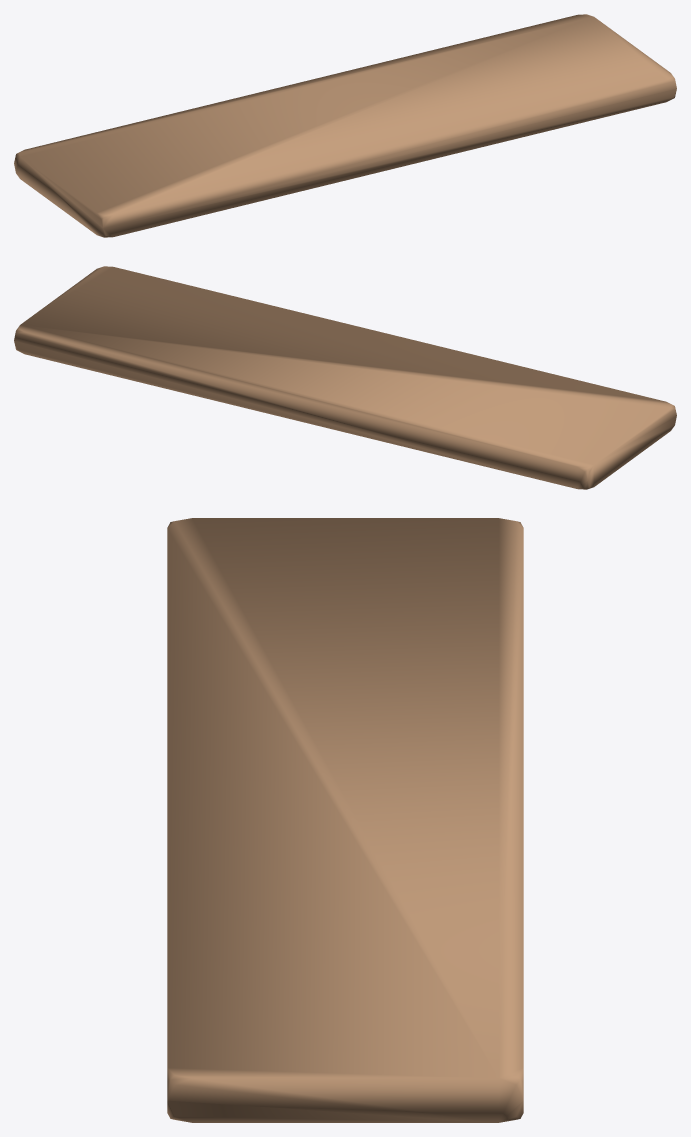
The model's file is Wall_shelf.fbx.
3 views of the same model, one above another, from view 1: azimuth 30°, elevation 25°; view 2: azimuth 150°, elevation 25°; view 3: azimuth 270°, elevation 25° (orthographic). The views are drawn at different scales.
Parts seen in each view (by area): view 1: Wall_shelf.001; view 2: Wall_shelf.001; view 3: Wall_shelf.001.
Boxes of the visible parts, x1,y1,x2,y2 form: Wall_shelf.001: [14, 14, 676, 237]; Wall_shelf.001: [14, 266, 676, 489]; Wall_shelf.001: [167, 518, 523, 1122].
Size of the model in its own units: 115 by 4.28 by 30.96.
